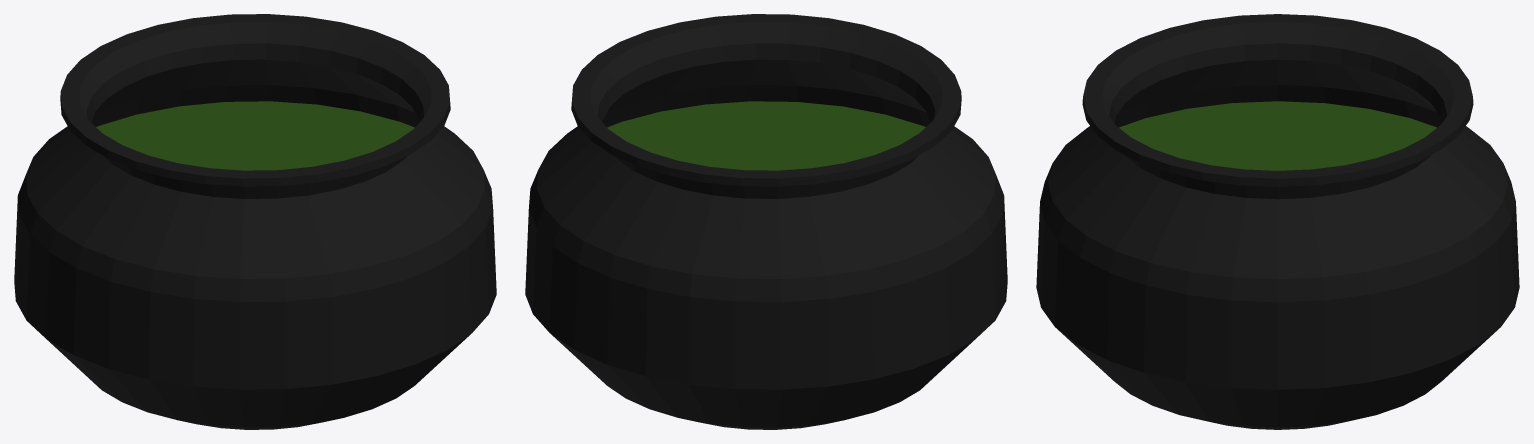
File: otros_objetos 2.fbx
The picture shows the model from 3 angles, left to right: view 1: azimuth 30°, elevation 25°; view 2: azimuth 150°, elevation 25°; view 3: azimuth 270°, elevation 25°; orthographic projection.
Visible parts, largest first — view 1: caldero - mesa de craft; view 2: caldero - mesa de craft; view 3: caldero - mesa de craft.
Boxes of the visible parts, x1,y1,x2,y2 form: caldero - mesa de craft: (14, 14, 496, 429); caldero - mesa de craft: (525, 14, 1007, 429); caldero - mesa de craft: (1036, 14, 1519, 429).
Bounding box in the file's own units: 273 × 173 × 273.
